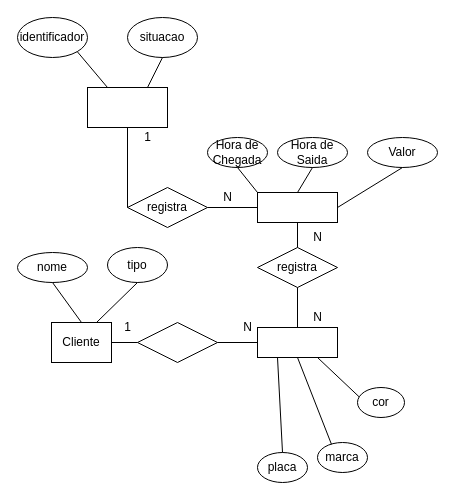
This 455x500 diagram has some shape labels left out. The centre of each missing label's shape, as x and y in pixels:
"Carro" goes at point (297, 342).
"Comprovante" goes at point (297, 207).
"possui" goes at point (177, 342).
"Vaga" goes at point (127, 107).
